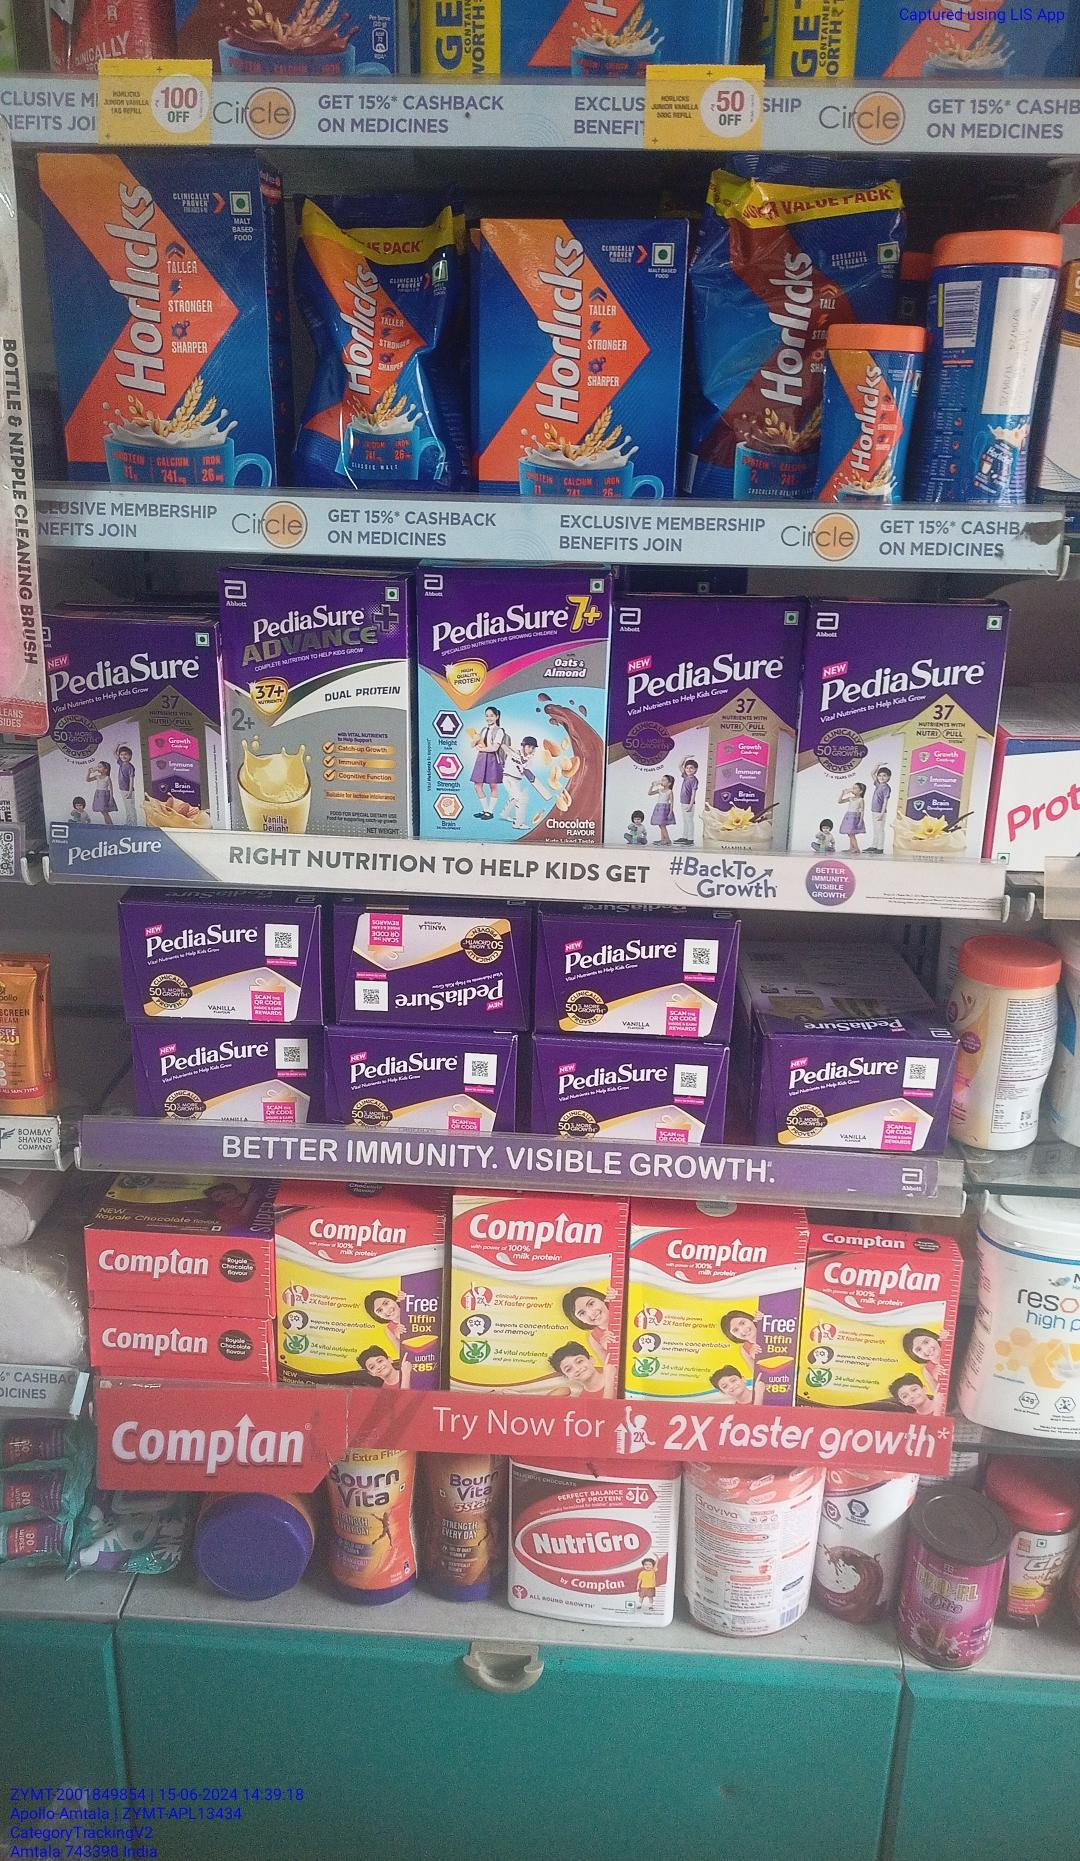BOURN_VITA_500_G_JAR: (327, 1450, 415, 1605)
BOURN_VITA_FIVE_STAR_MAGIC_500_G_JAR: (419, 1455, 503, 1601)
COMPLAN_CHOCOLATE_200_GMS_PACK: (802, 1247, 955, 1412)
COMPLAN_CHOCOLATE_500_GMS_PACK: (275, 1200, 446, 1392)
COMPLAN_CREAMY_CLASSIC_500_G_PACK: (629, 1227, 798, 1409)
COMPLAN_KESAR_BADAM_500_GMS_PACK: (455, 1194, 620, 1401)
PEDIASURE_7_PLUS_CHOCOLATE_400_G_PACK: (418, 565, 606, 846)
PEDIASURE_VANILLA_500_G_PACK: (791, 598, 1003, 864), (611, 594, 784, 848)
